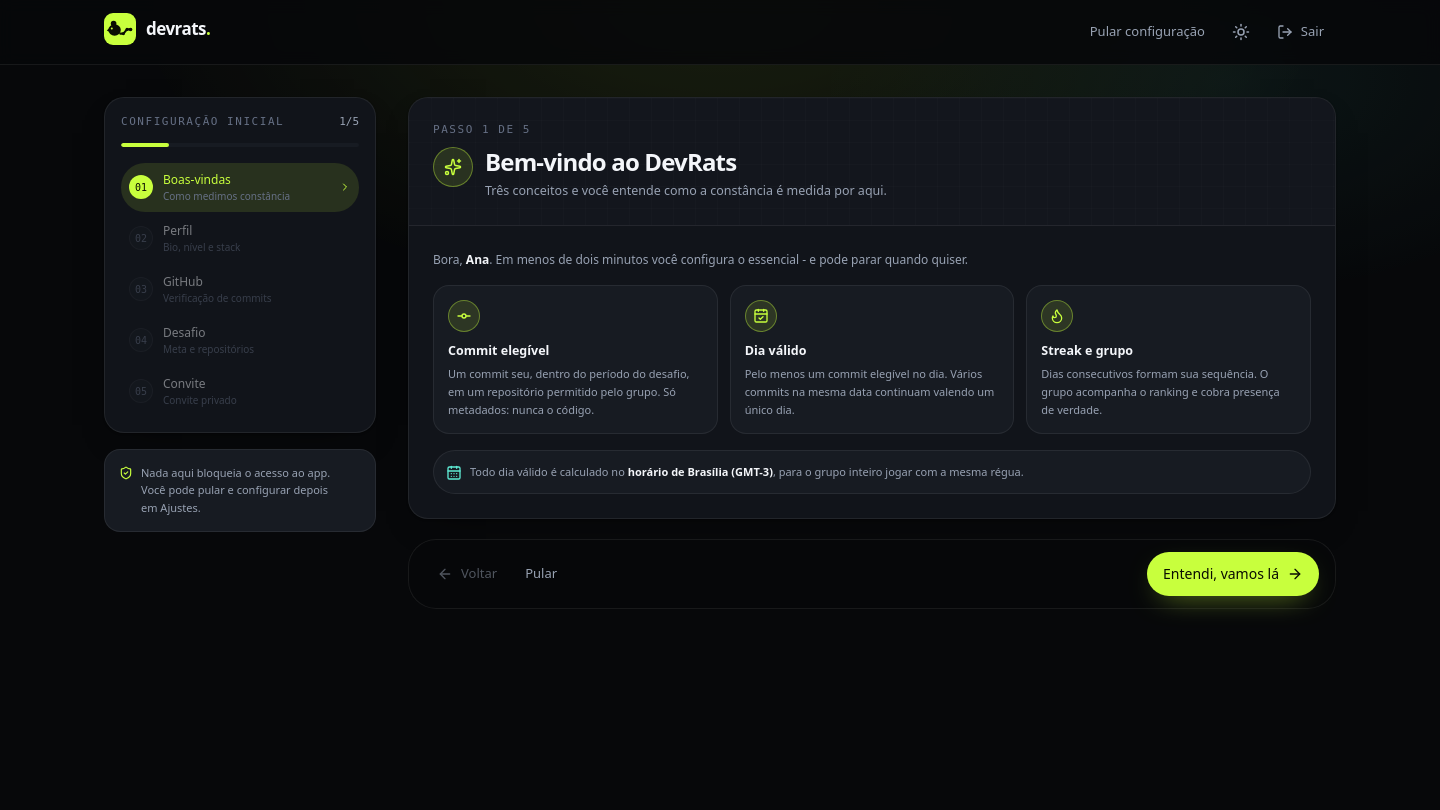
Test: OnboardingPage › advances to the profile step
Step 1. Click the button "Entendi, vamos lá" → (1233, 574), box x1=1147 y1=552 x2=1319 y2=596
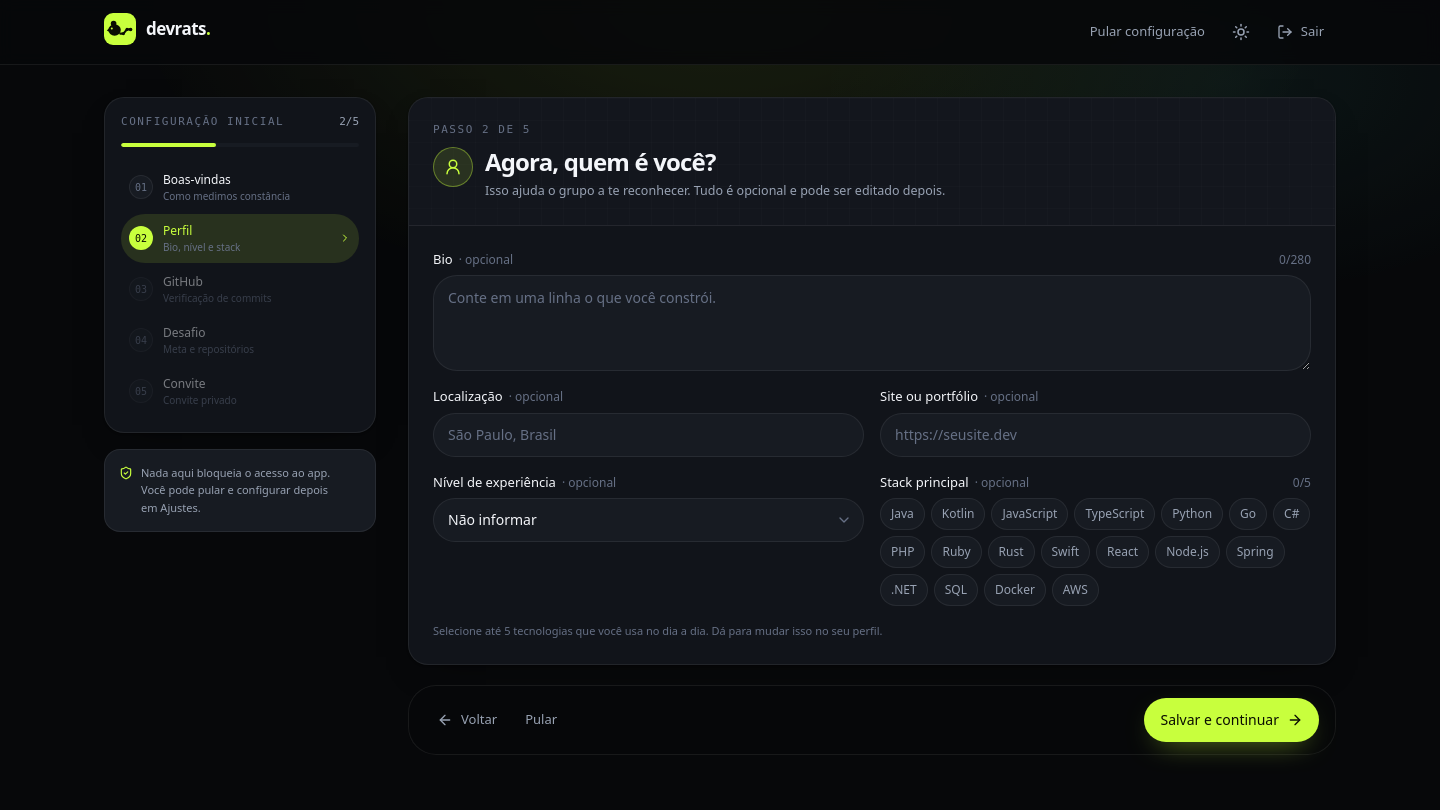
Check: the heading "Agora, quem é você?" is shown, box x1=485 y1=144 x2=716 y2=178
Check: the text box labelled "Bio· opcional" is shown, box x1=433 y1=275 x2=1311 y2=371
